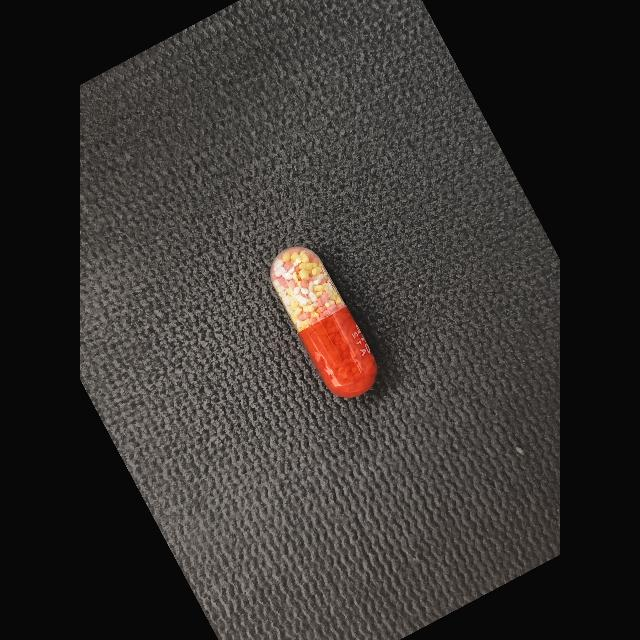Intact Capsule: (270, 247, 377, 398)
